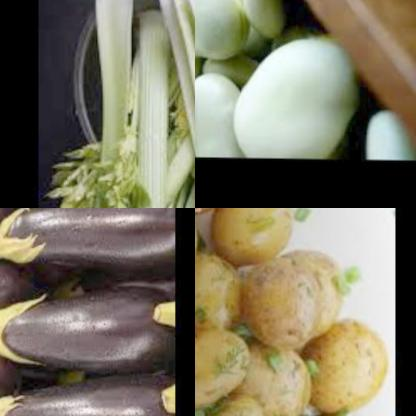beans: (195, 0, 412, 158)
celery: (78, 0, 183, 208)
eggplant: (0, 208, 173, 306), (0, 291, 174, 370), (0, 380, 174, 416)
potato: (248, 251, 352, 348), (305, 321, 391, 416), (195, 234, 254, 340), (195, 325, 255, 406), (216, 208, 295, 265), (257, 338, 314, 416), (205, 389, 270, 416)
